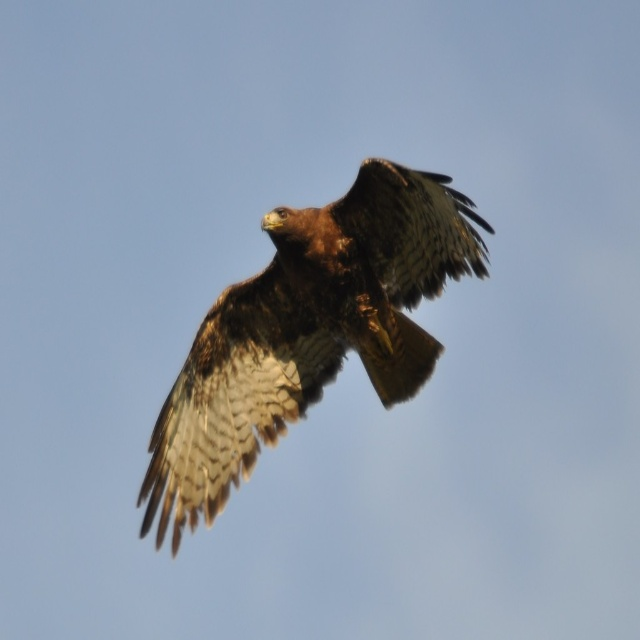Eagle: (131, 154, 497, 560)
